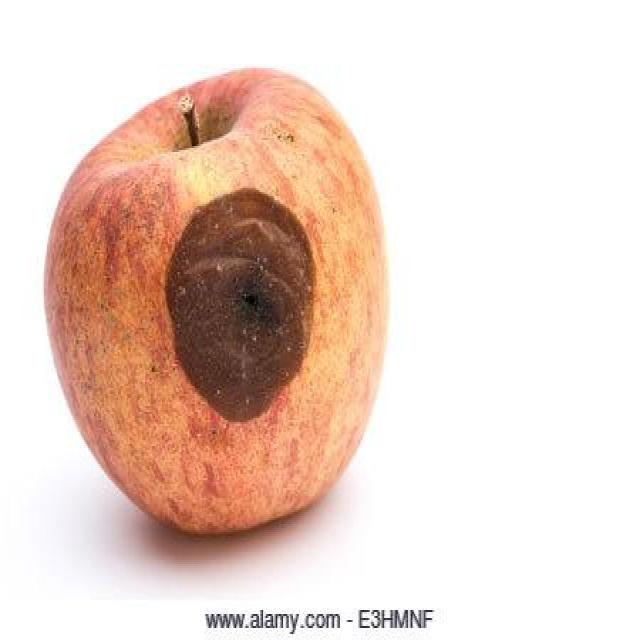Rotten: (39, 57, 389, 529)
